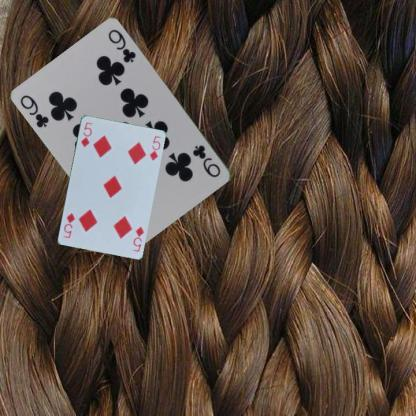5d: (130, 223, 145, 252), (78, 120, 93, 148)
9c: (190, 142, 223, 179), (18, 92, 51, 129)
